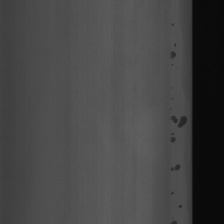oil_spot: (169, 106, 189, 130), (168, 160, 182, 176), (169, 43, 179, 61), (173, 200, 184, 215), (166, 131, 177, 145)
